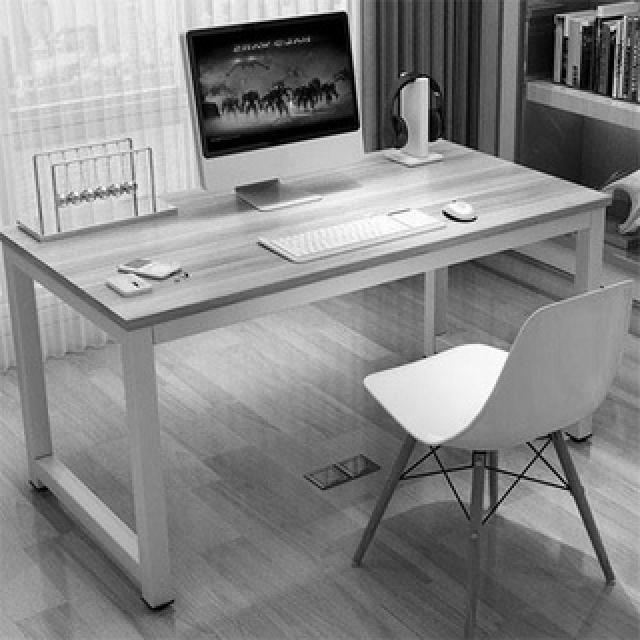table: (7, 114, 611, 335)
